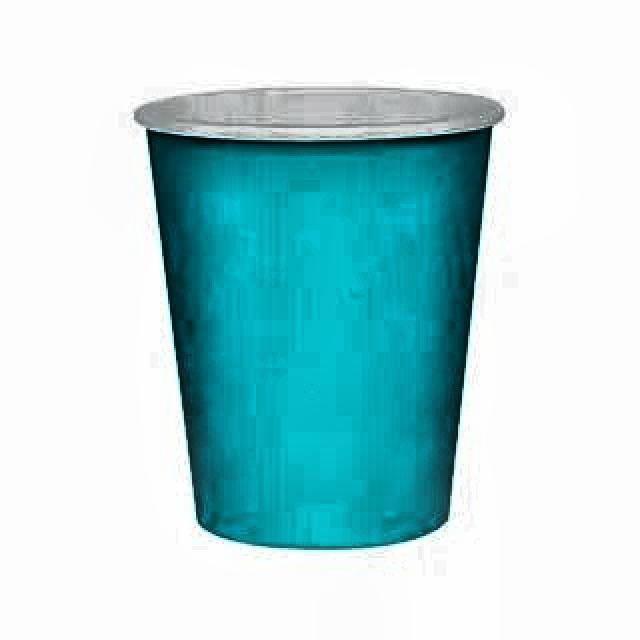Cup: (127, 69, 513, 570)
